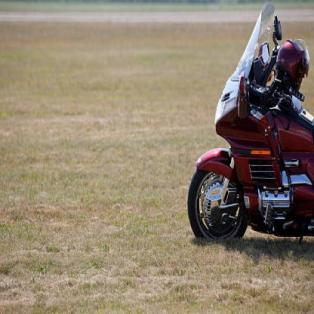Motocicleta: (182, 0, 313, 252)
